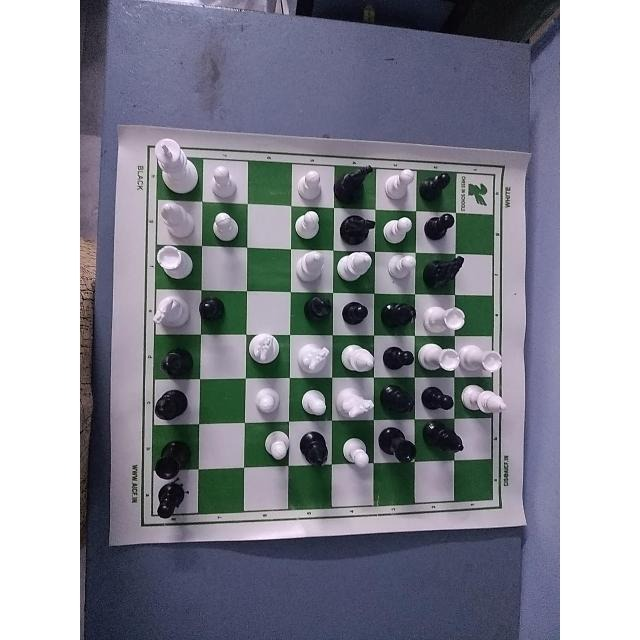black-bishop: (425, 421, 469, 473), (142, 385, 189, 423), (378, 380, 418, 419), (291, 290, 335, 325), (382, 294, 423, 330), (148, 345, 191, 376), (299, 425, 329, 469)
black-knight: (333, 157, 380, 203), (424, 247, 472, 287), (338, 210, 381, 239)
black-pawn: (137, 483, 195, 523), (422, 158, 461, 205), (334, 294, 373, 337), (421, 206, 457, 252), (197, 287, 237, 325), (424, 377, 458, 417), (384, 336, 417, 376)
black-rook: (139, 432, 193, 484), (377, 427, 419, 470)
white-bishop: (462, 380, 509, 426), (335, 335, 378, 375), (293, 241, 327, 291), (153, 199, 197, 237), (336, 245, 375, 285)
white-king: (154, 131, 198, 197)
white-knight: (148, 286, 191, 337), (296, 334, 334, 379), (244, 329, 291, 365), (337, 385, 377, 423)
white-pawn: (286, 156, 325, 206), (206, 205, 248, 247), (381, 159, 417, 206), (254, 425, 295, 465), (295, 380, 331, 424), (339, 432, 371, 480), (381, 206, 417, 248), (207, 153, 236, 204), (287, 207, 327, 243), (246, 379, 282, 416), (384, 248, 419, 284)
white-rook: (155, 239, 200, 286), (419, 300, 468, 336), (463, 340, 506, 375), (419, 341, 458, 375)
